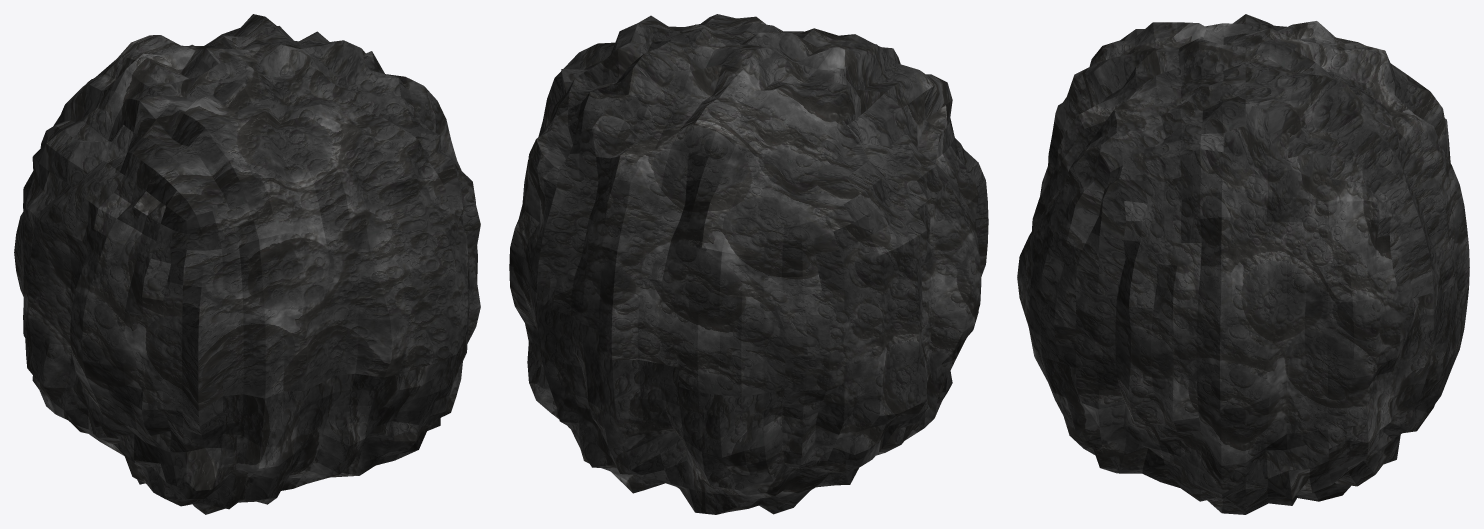
The model's file is asteroid189.obj.
3 renders of one model, left to right at view 1: azimuth 30°, elevation 25°; view 2: azimuth 150°, elevation 25°; view 3: azimuth 270°, elevation 25°, orthographic. The views are drawn at different scales.
Visible parts, largest first — view 1: Cube_Cube.002; view 2: Cube_Cube.002; view 3: Cube_Cube.002.
Boxes of the visible parts, x1,y1,x2,y2 form: Cube_Cube.002: (14,14,480,514); Cube_Cube.002: (509,14,988,514); Cube_Cube.002: (1017,14,1469,514).
Size of the model in its own units: 1.8 by 1.81 by 1.69.
